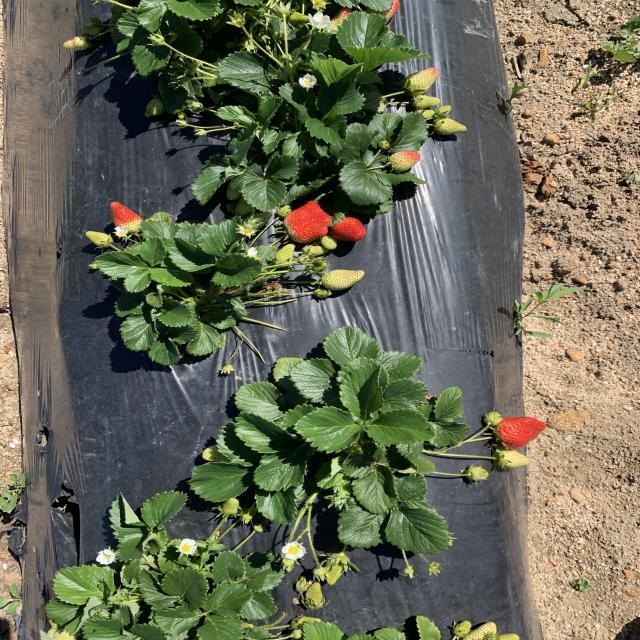unripe: (284, 198, 336, 244), (485, 414, 550, 449), (108, 200, 146, 233), (330, 213, 369, 245)
